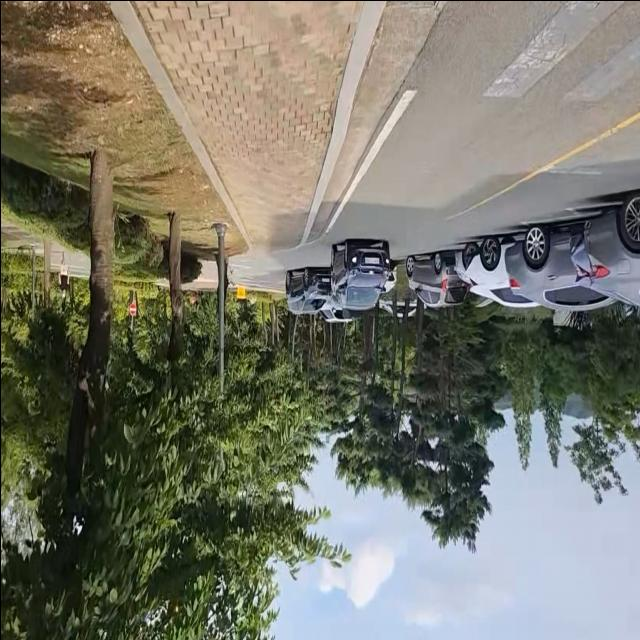obstacle: (403, 212, 625, 315), (565, 183, 640, 313), (324, 235, 395, 309), (282, 257, 336, 321)
road: (304, 0, 640, 261)
sidewalk: (104, 0, 388, 257)
